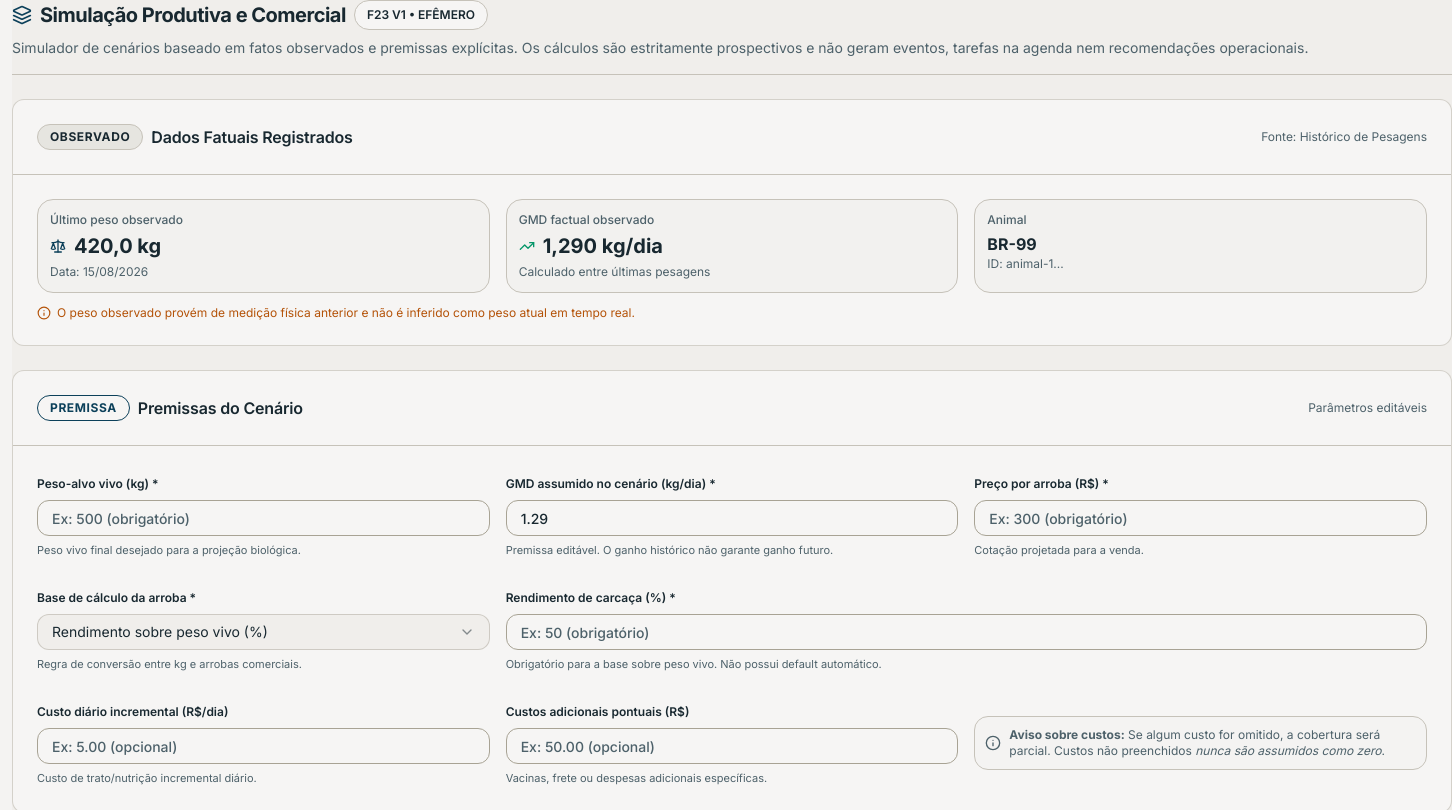
Scenario: ProductiveCommercialSimulator (UI component) › renderiza badges e seções distintas para OBSERVADO, PREMISSA e SIMULADO após preencher premissas
This screenshot has width=1452, height=810.
# Preenche premissas obrigatórias
Type "520" into the number field labelled "Peso-alvo vivo (kg) *". click: [263, 518]
box: [37,500,490,536]
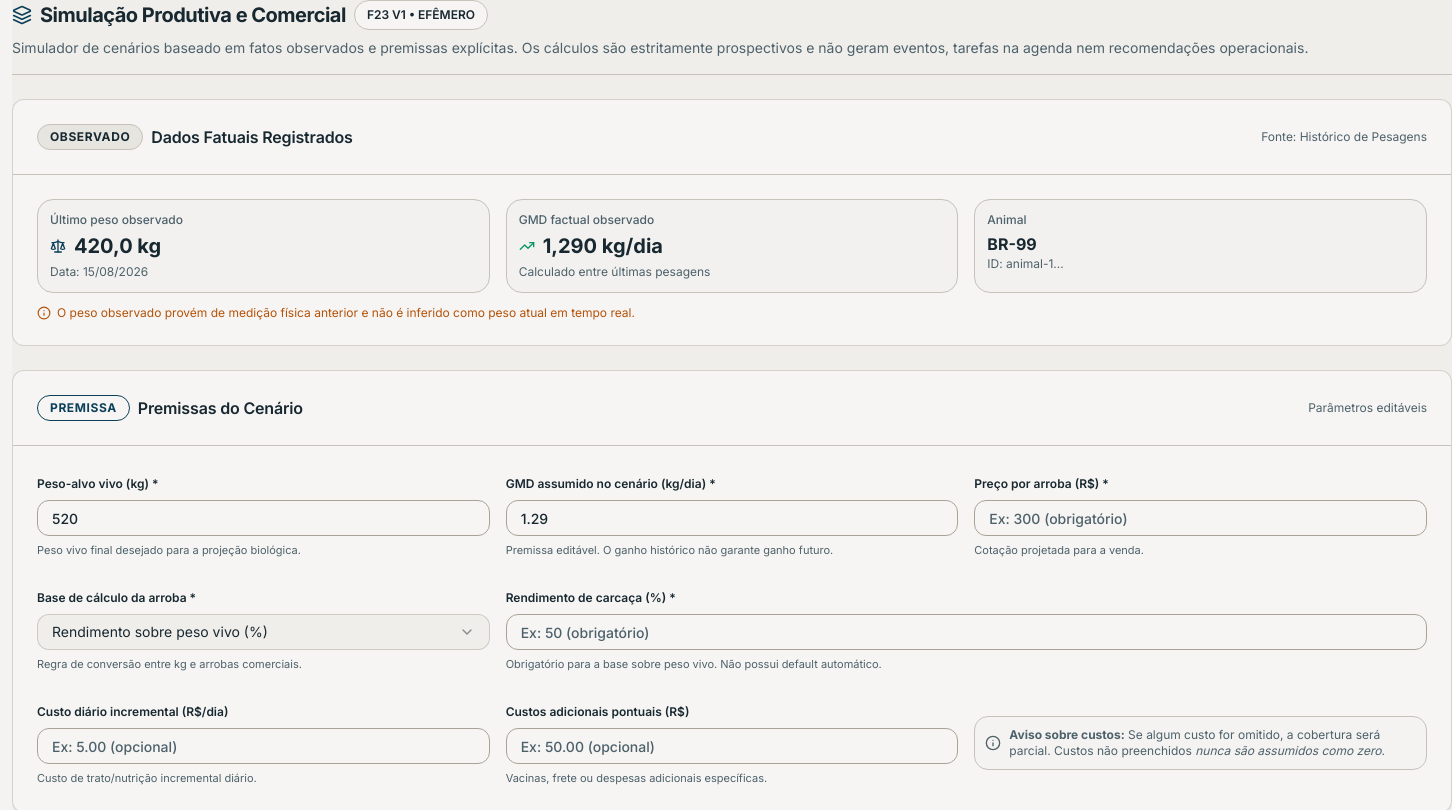
Type "300" into the number field labelled "Preço por arroba (R$) *". click: [1201, 518]
box: [974,500,1427,536]
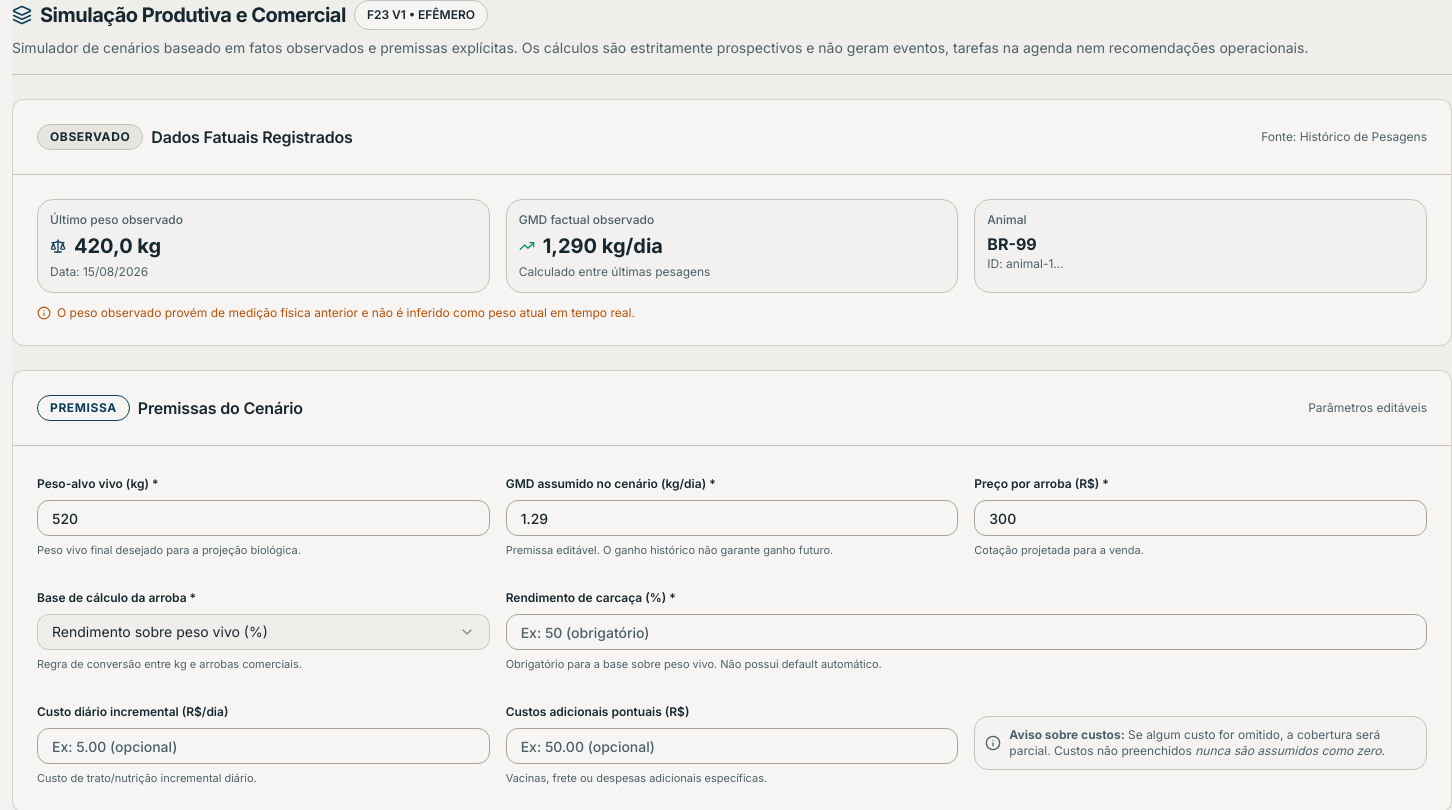
Type "50" into the number field labelled "Rendimento de carcaça (%) *". click: [966, 632]
box: [506,614,1427,650]
(page scrolled)
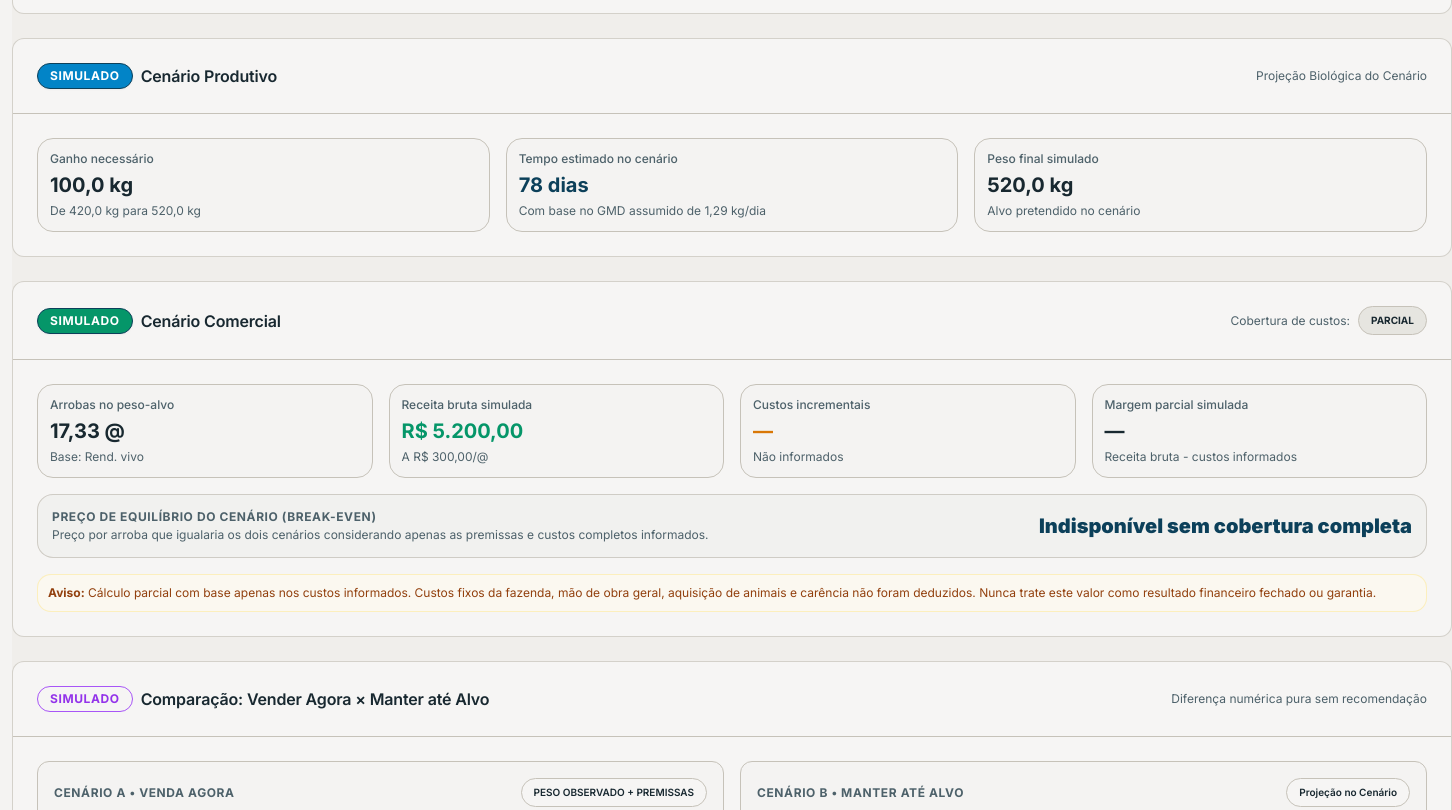
Now the text "Tempo estimado no cenário" is shown, box [519,151,678,166]
Now the text "Receita bruta simulada" is shown, box [402,397,532,412]
